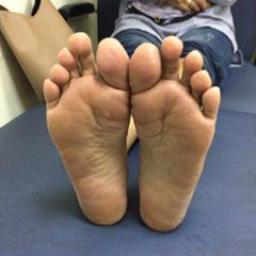Plantar View -Both Feet-: (35, 24, 224, 236)
